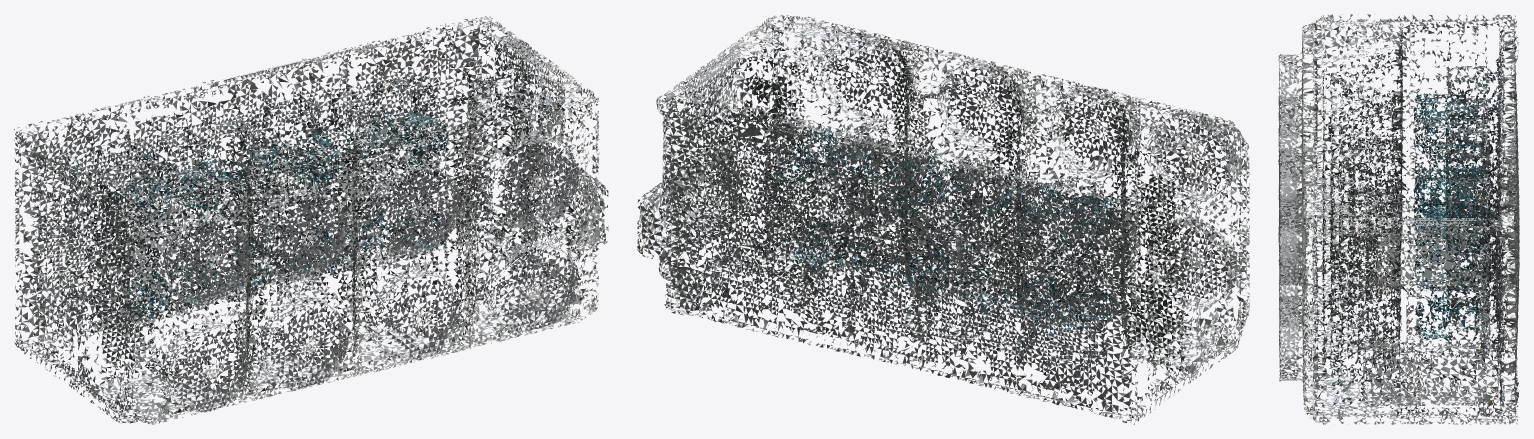
Rendered from chiller_rgb_bpa.glb.
3 views of the same model, side by side, from view 1: azimuth 30°, elevation 25°; view 2: azimuth 150°, elevation 25°; view 3: azimuth 270°, elevation 25° (orthographic). The views are drawn at different scales.
Visible parts, largest first — view 1: world; view 2: world; view 3: world.
Boxes of the visible parts, x1,y1,x2,y2 form: world: (14, 16, 608, 424); world: (637, 15, 1249, 424); world: (1278, 14, 1519, 424).
Size of the model in its own units: 0.9937 by 0.4083 by 0.445.
